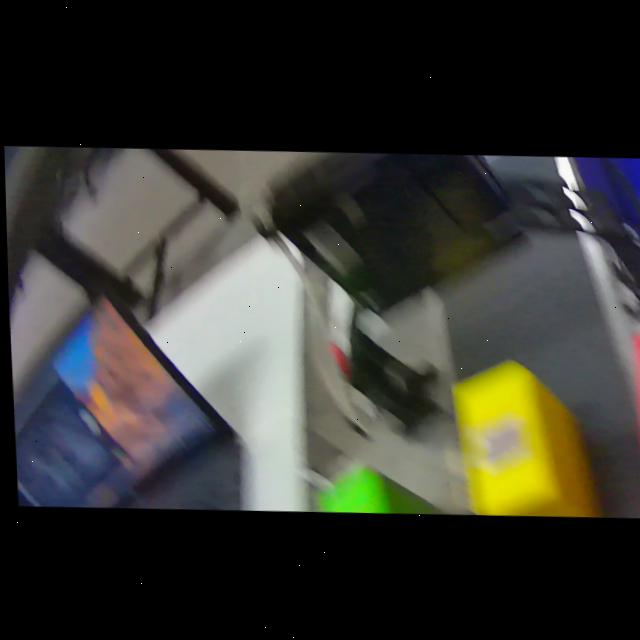greenBox: (303, 460, 458, 513)
redBox: (624, 310, 640, 513)
yellowBox: (440, 342, 605, 515)
